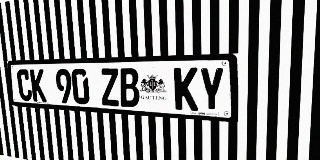0: (71, 69, 90, 105)
9: (55, 69, 73, 104)
B: (119, 68, 140, 107)
C: (16, 69, 33, 101)
K: (174, 67, 198, 111), (30, 69, 47, 102)
Y: (199, 67, 224, 112)
Z: (100, 68, 120, 106)
